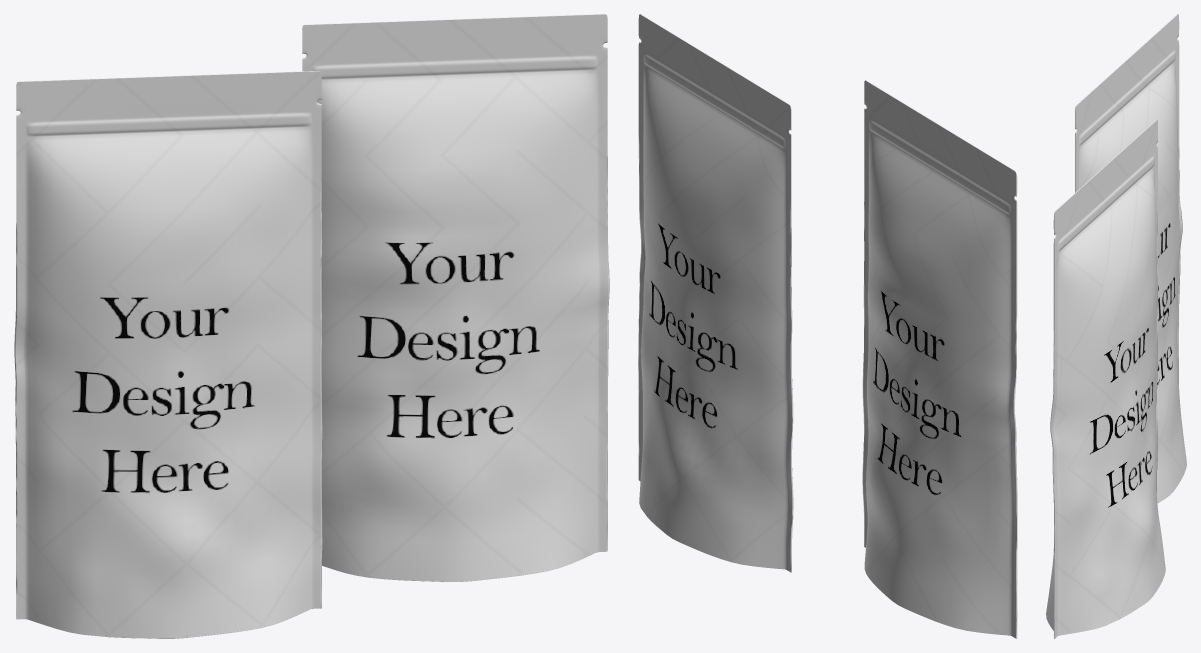
Rendered from Zip Angle-1.glb.
3 renders of one model, left to right at view 1: azimuth 30°, elevation 25°; view 2: azimuth 150°, elevation 25°; view 3: azimuth 270°, elevation 25°, orthographic. The views are drawn at different scales.
Visible parts, largest first — view 1: ATR001_Doypack_0, ATR001_Doypack_0.001; view 2: ATR001_Doypack_0, ATR001_Doypack_0.001; view 3: ATR001_Doypack_0.001, ATR001_Doypack_0.
Boxes of the visible parts, bbox=[...] form: ATR001_Doypack_0: bbox=[14, 71, 322, 638]; ATR001_Doypack_0.001: bbox=[302, 14, 609, 581]; ATR001_Doypack_0: bbox=[862, 80, 1017, 638]; ATR001_Doypack_0.001: bbox=[638, 14, 793, 572]; ATR001_Doypack_0.001: bbox=[1046, 120, 1165, 638]; ATR001_Doypack_0: bbox=[1075, 14, 1186, 503].
Size of the model in its own units: 0.3107 by 0.3102 by 0.0928.
1 material, 1 textured.
